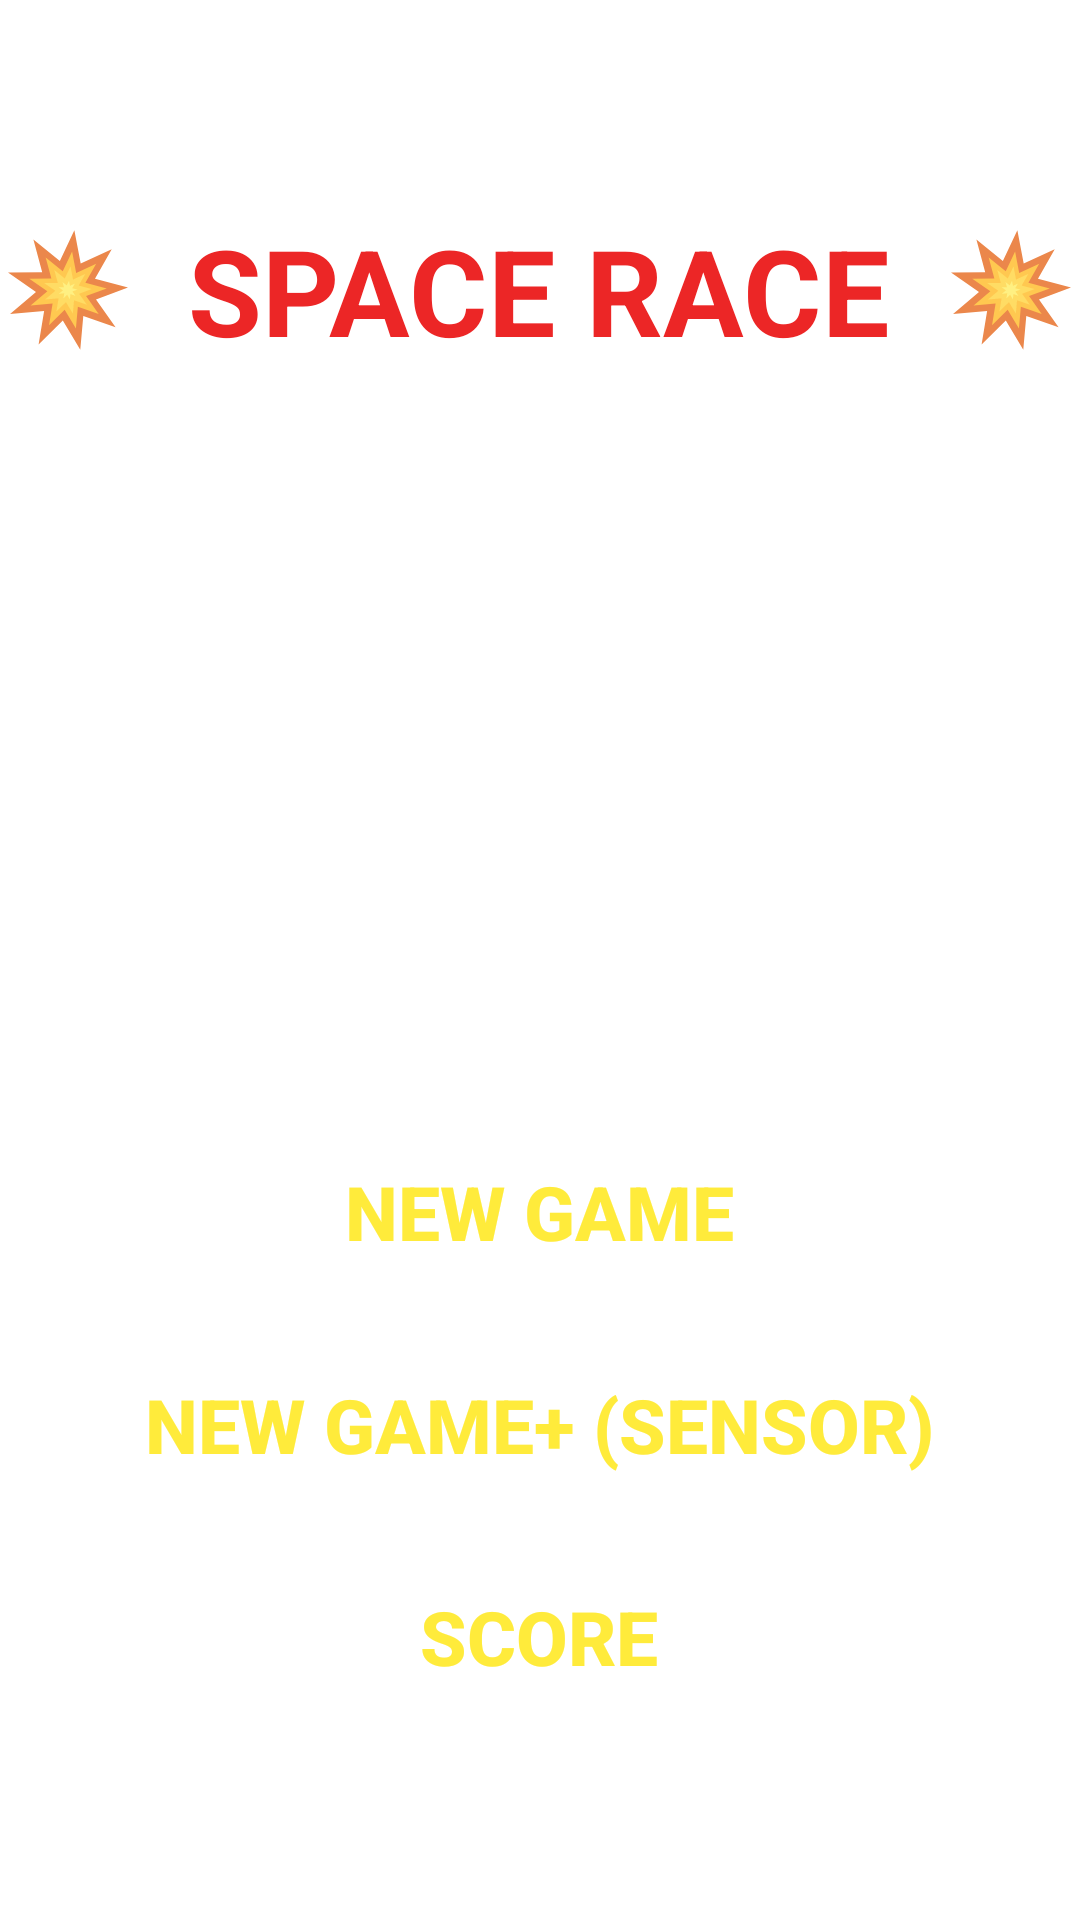

Screen size 1080w x 1920h. Icon name, then its box in pixels as (x1,y1,x2,y2):
explosion: (8,230,128,350), (951,230,1071,350)
